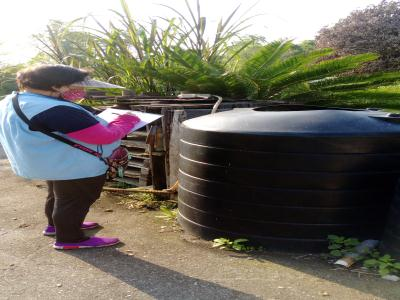bucket: (176, 101, 399, 252)
